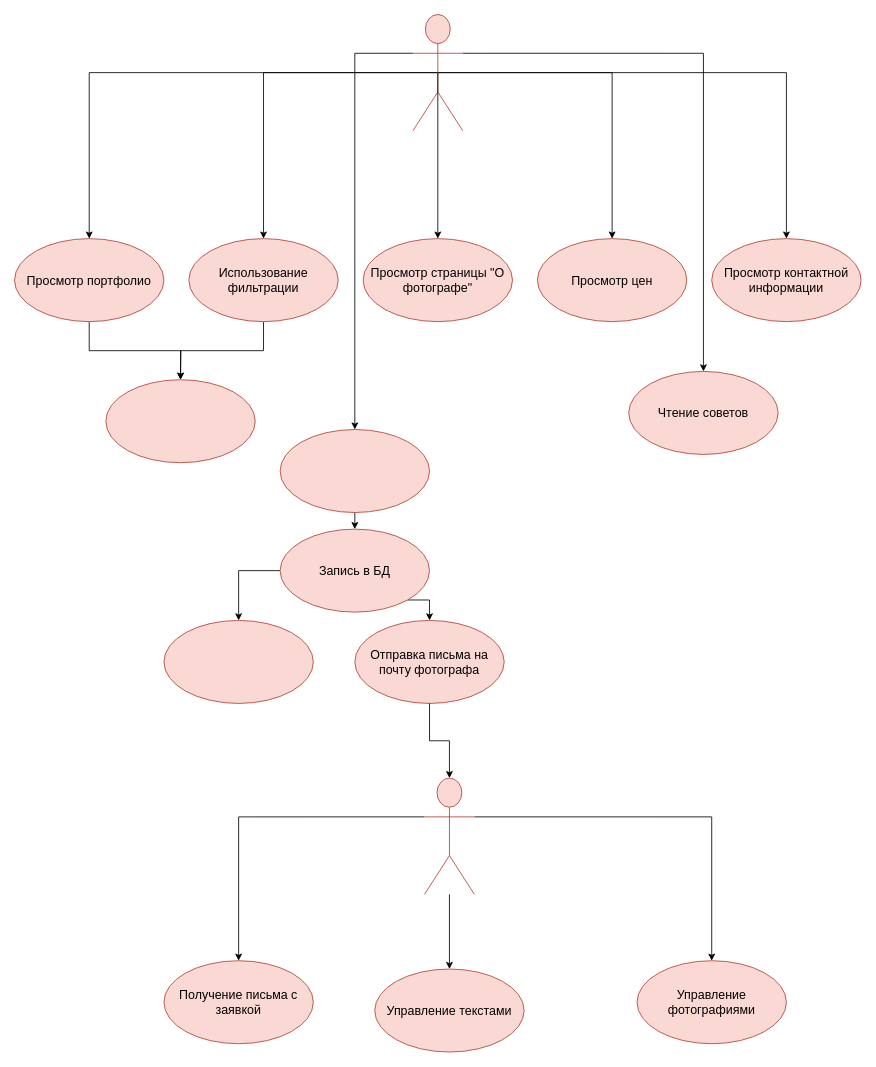
This 876x1067 diagram has some shape labels left out. The shapes that lost their labels are listed below. From the top down, each one's box as (x1, y1, x2, y2) in pixels, then its label:
(412, 14, 463, 131): Посетитель
(105, 379, 255, 463): Открытие фото во весь экран
(279, 429, 430, 513): Отправка сообщений через форму
(163, 620, 313, 703): Валидация полей
(424, 777, 474, 894): Администратор
